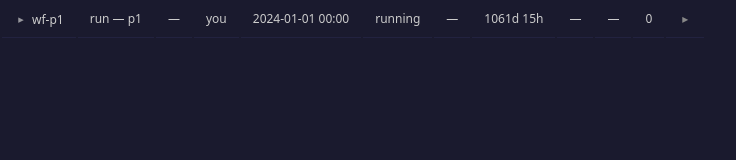
it: collapsing hides the children again
The image size is (736, 160).
Click the button named "Show child runs of run — p1". click: (21, 20)
box: [14,14,28,25]
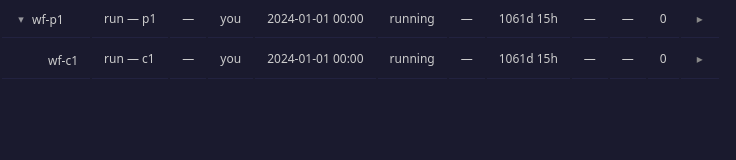
Expected: the text "wf-c1" is shown, [48,52,78,68]
Click the button named "Hide child runs of run — p1". click: (21, 20)
box: [14,14,28,25]
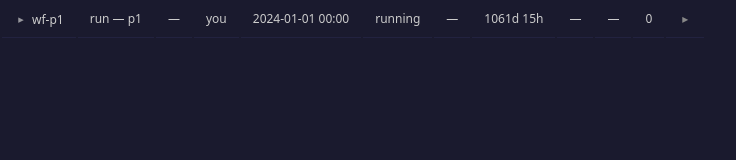
Expected: the text "wf-c1" is gone
